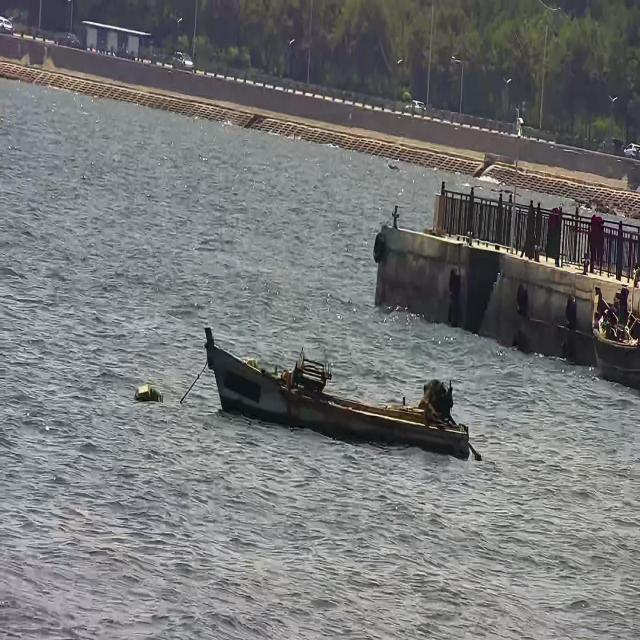CIV_Ship: (192, 322, 483, 472), (586, 280, 640, 385)
